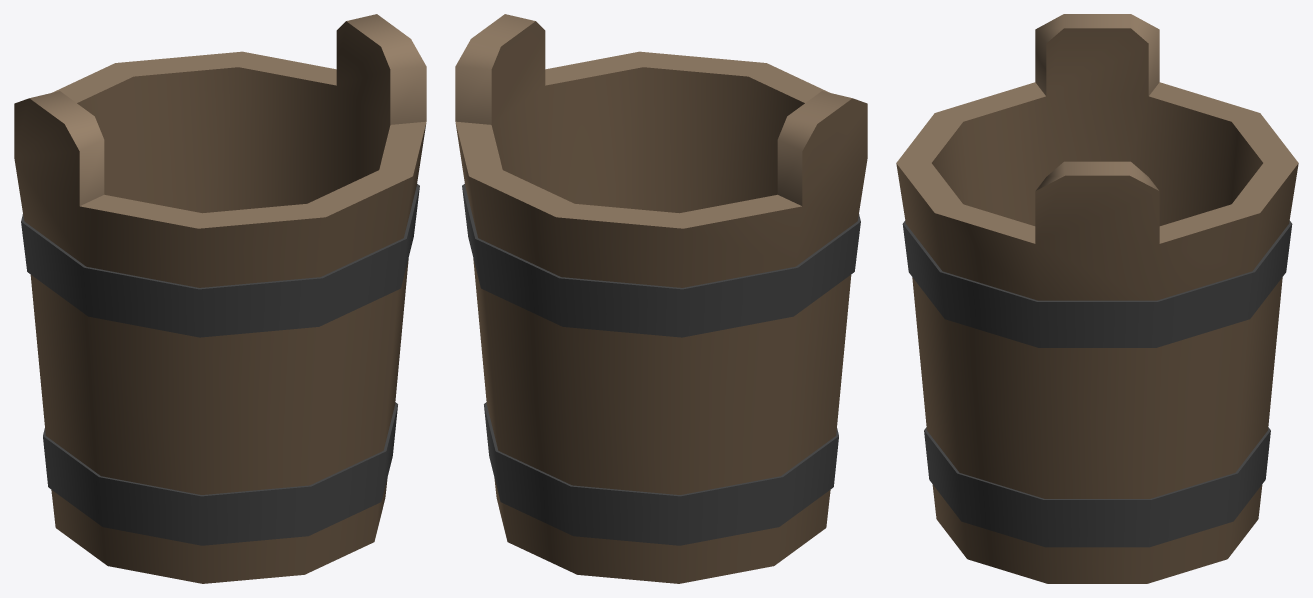
Rendered from 19_LP_Bucket_A.fbx.
3 views of the same model, side by side, from view 1: azimuth 30°, elevation 25°; view 2: azimuth 150°, elevation 25°; view 3: azimuth 270°, elevation 25° (orthographic). The views are drawn at different scales.
Parts seen in each view (by area): view 1: Bucket_A; view 2: Bucket_A; view 3: Bucket_A.
Part boxes in pixels (left/top/right/bottom): Bucket_A: left=14, top=14, right=426, bottom=583; Bucket_A: left=455, top=14, right=867, bottom=583; Bucket_A: left=896, top=14, right=1298, bottom=583.
Bounding box in the file's own units: 28.53 × 34.91 × 30.
